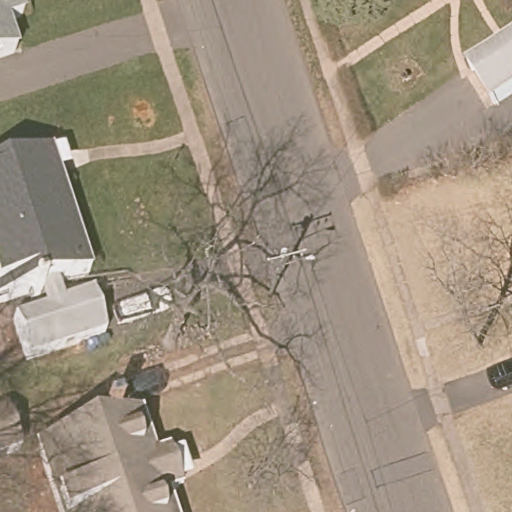DT: (265, 245, 317, 300)
